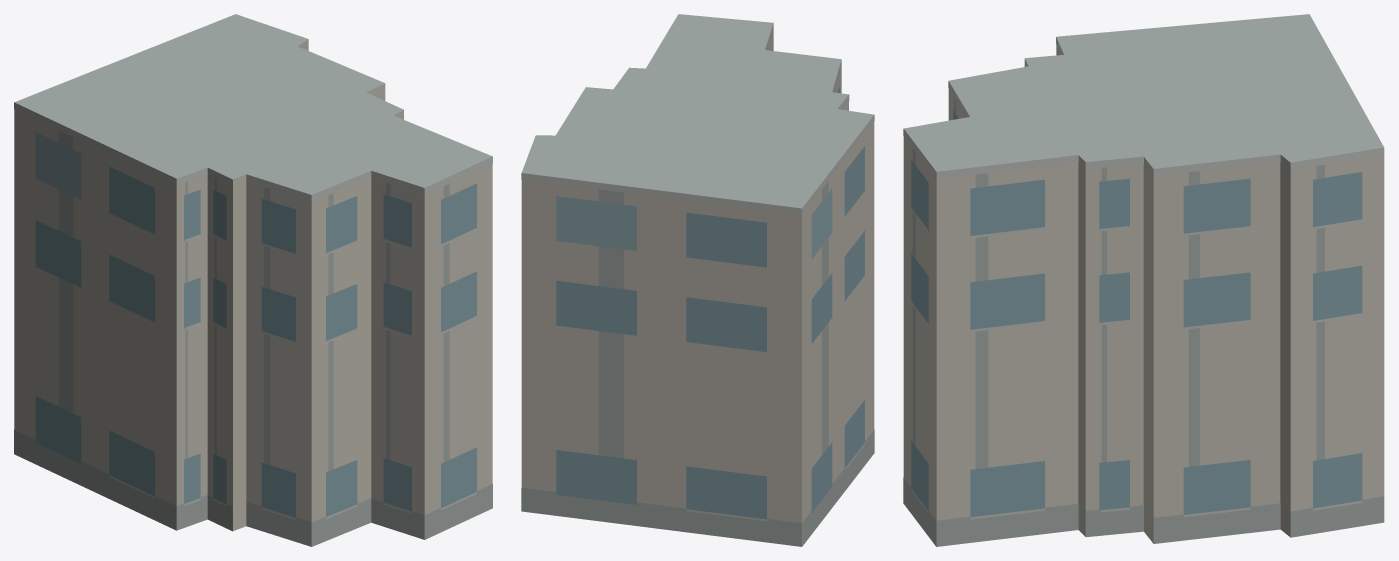
The model's file is residential-35a61484-269c-4fe7-b3fb-6a9fd1a89f14.glb.
3 renders of one model, left to right at view 1: azimuth 30°, elevation 25°; view 2: azimuth 150°, elevation 25°; view 3: azimuth 270°, elevation 25°, orthographic. The views are drawn at different scales.
Visible parts, largest first — view 1: residential-35a61484-269c-4fe7-b3fb-6a9fd1a89f14.tmp; view 2: residential-35a61484-269c-4fe7-b3fb-6a9fd1a89f14.tmp; view 3: residential-35a61484-269c-4fe7-b3fb-6a9fd1a89f14.tmp.
Boxes of the visible parts, <box> form: residential-35a61484-269c-4fe7-b3fb-6a9fd1a89f14.tmp: <box>14,14,492,546</box>; residential-35a61484-269c-4fe7-b3fb-6a9fd1a89f14.tmp: <box>521,14,874,546</box>; residential-35a61484-269c-4fe7-b3fb-6a9fd1a89f14.tmp: <box>903,14,1384,546</box>.
Bounding box in the file's own units: 11.02 × 12.2 × 14.18.
